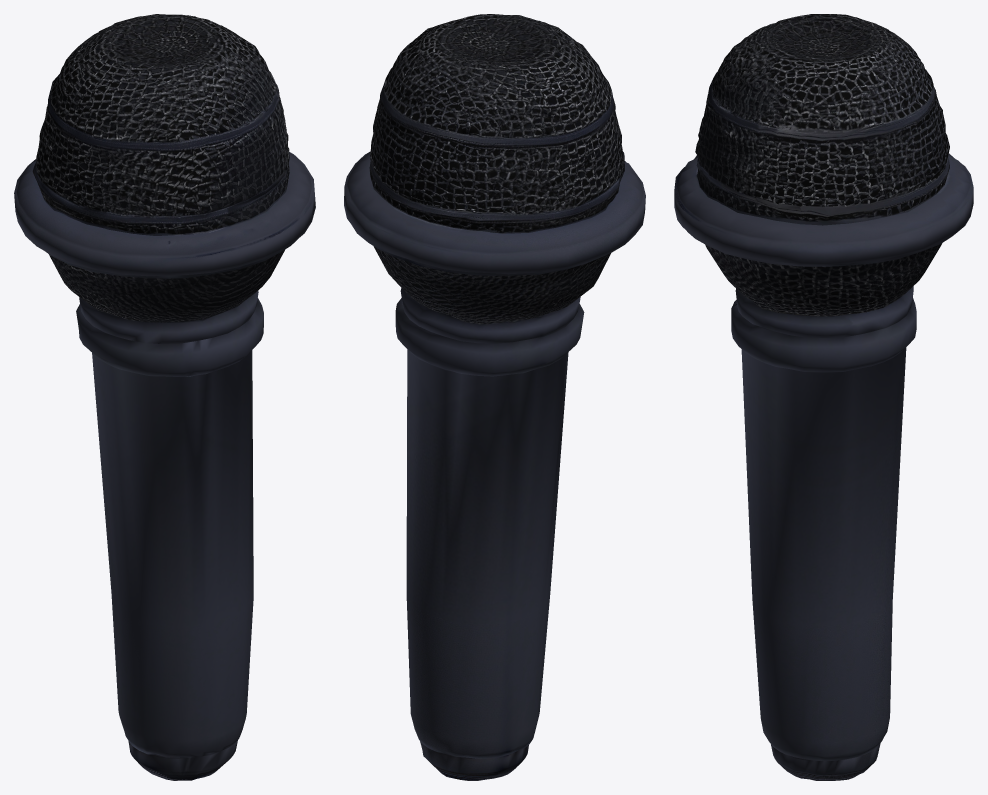
File: Microfono_de_Rina.glb
3 renders of one model, left to right at view 1: azimuth 30°, elevation 25°; view 2: azimuth 150°, elevation 25°; view 3: azimuth 270°, elevation 25°, orthographic.
Visible parts, largest first — view 1: tripo_node_2dec89c1-483c-42e4-8e31-452207c80873; view 2: tripo_node_2dec89c1-483c-42e4-8e31-452207c80873; view 3: tripo_node_2dec89c1-483c-42e4-8e31-452207c80873.
Part boxes in pixels (x1,y1,x2,y2): tripo_node_2dec89c1-483c-42e4-8e31-452207c80873: (14,14,315,780); tripo_node_2dec89c1-483c-42e4-8e31-452207c80873: (344,14,645,780); tripo_node_2dec89c1-483c-42e4-8e31-452207c80873: (674,14,973,780).
Size of the model in its own units: 0.4174 by 1.12 by 0.4199.
1 material, 1 textured.
